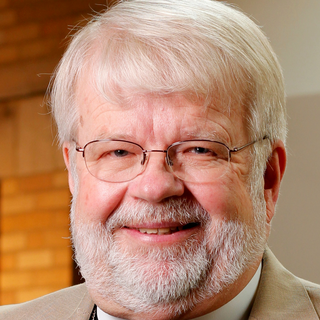eye: (179, 140, 224, 162), (97, 143, 141, 164)
